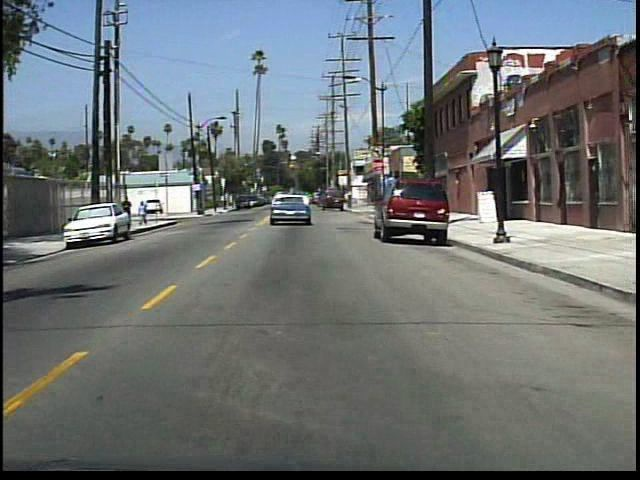person: (121, 195, 138, 229), (136, 199, 150, 228)
